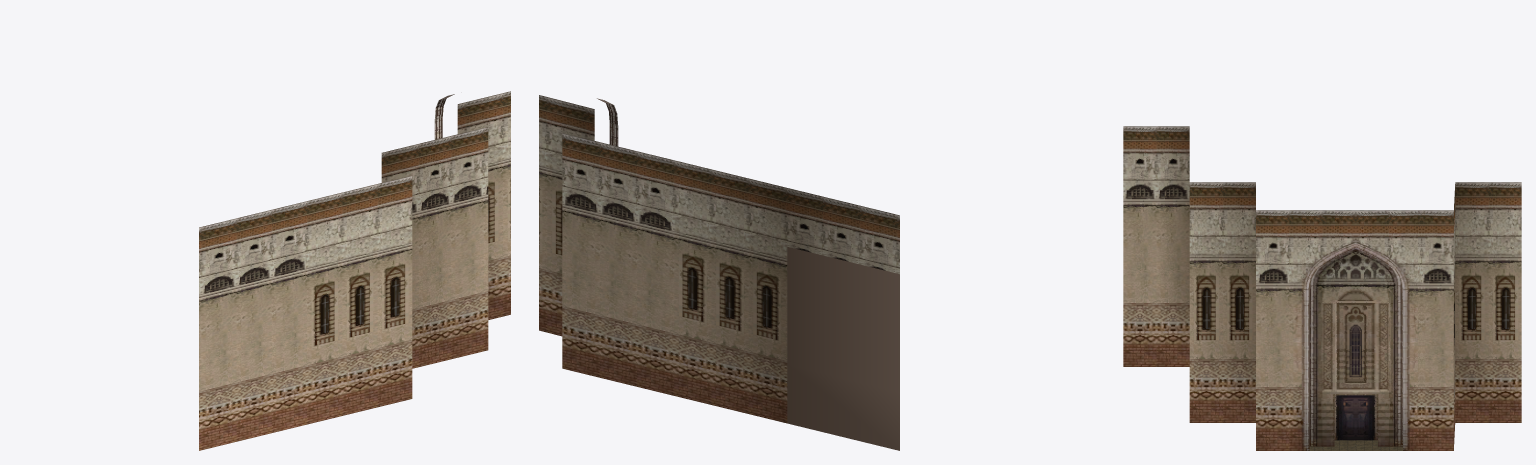
The model's file is M2Zone1_Mosque.glb.
3 views of the same model, side by side, from view 1: azimuth 30°, elevation 25°; view 2: azimuth 150°, elevation 25°; view 3: azimuth 270°, elevation 25° (orthographic). The views are drawn at different scales.
Visible parts, largest first — view 1: M2ZONE1_MOSQUE; view 2: M2ZONE1_MOSQUE; view 3: M2ZONE1_MOSQUE.
Boxes of the visible parts, x1,y1,x2,y2 form: M2ZONE1_MOSQUE: (199,91,510,450); M2ZONE1_MOSQUE: (539,95,899,450); M2ZONE1_MOSQUE: (1123,126,1521,450).
Size of the model in its own units: 28 by 16 by 24.
5 materials, 5 textured.
